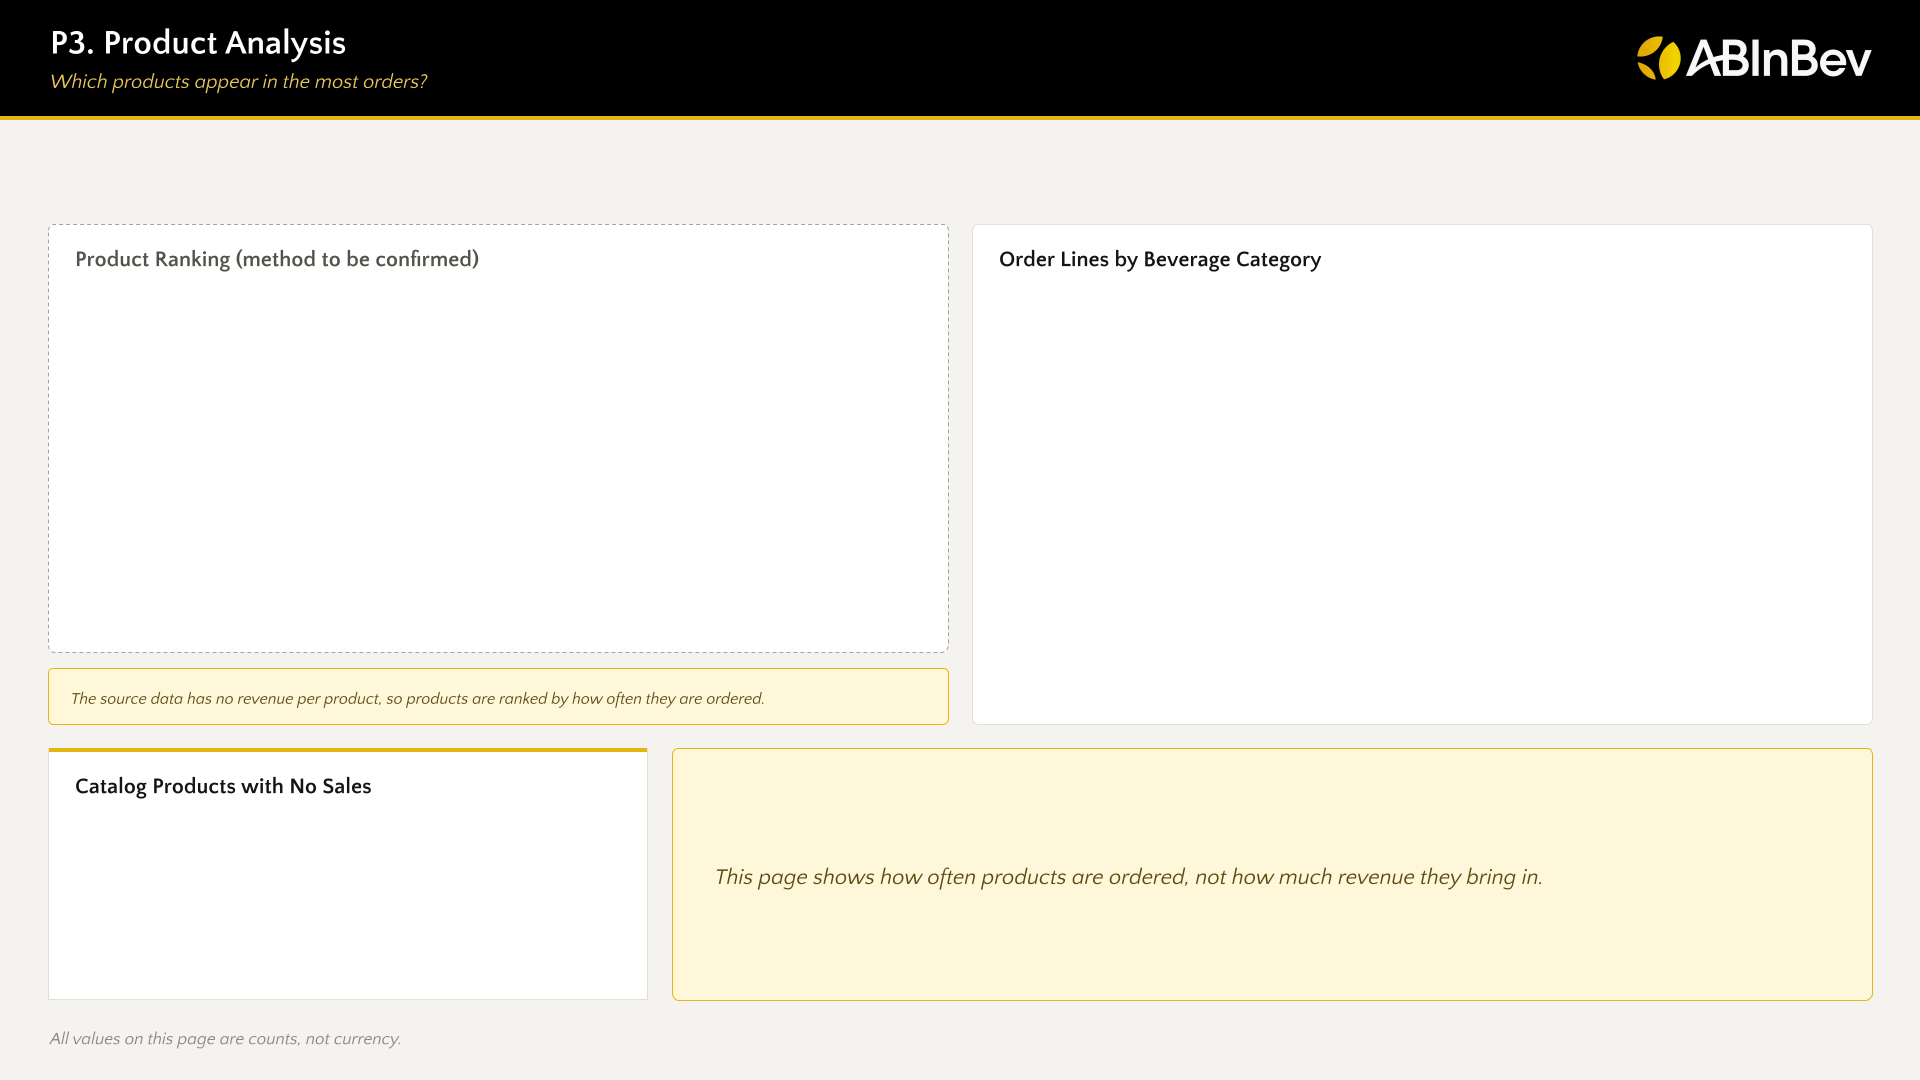

The page's visual inventory and layout, read from the dashboard file:
{"tool":"powerbi","page":{"name":"Product Analysis","canvas":[1920,1080],"ordinal":2},"visuals":[{"type":"slicer","fields":{"Values":["dim_date.MonthName"]},"box":[47.1,127.1,440,72.9],"z":0},{"type":"slicer","fields":{"Values":["dim_customer.user_id"]},"box":[511.4,127.1,440,72.9],"z":1},{"type":"slicer","fields":{"Values":["targets.city"]},"box":[971.4,127.1,440,72.9],"z":2},{"type":"slicer","fields":{"Values":["dim_customer.category"]},"box":[1432.9,127.1,440,72.9],"z":3},{"type":"clusteredBarChart","title":"Rev_line","fields":{"Y":["Metricas.Product Order Frequency"],"Category":["dim_product.item_id"]},"box":[68.6,305.7,868.6,337.1],"z":4},{"type":"donutChart","title":"Rev_line","fields":{"Category":["dim_product.category"],"Y":["Metricas.Order Lines Count"]},"box":[998.6,305.7,862.9,407.1],"z":5},{"type":"cardVisual","fields":{"Data":["Metricas.Unsold Products"]},"box":[58.6,828.6,577.1,160],"z":6}]}

Visuals, with their boxes in screenshot pixels (x1, y1, x2, y2), scaled from the page's 1920x1080 canvas onto the 1920x1080 screenshot:
slicer - dim_date.MonthName: 47,127,487,200
slicer - dim_customer.user_id: 511,127,951,200
slicer - targets.city: 971,127,1411,200
slicer - dim_customer.category: 1433,127,1873,200
"Rev_line" clusteredBarChart: 69,306,937,643
"Rev_line" donutChart: 999,306,1862,713
cardVisual - Metricas.Unsold Products: 59,829,636,989
